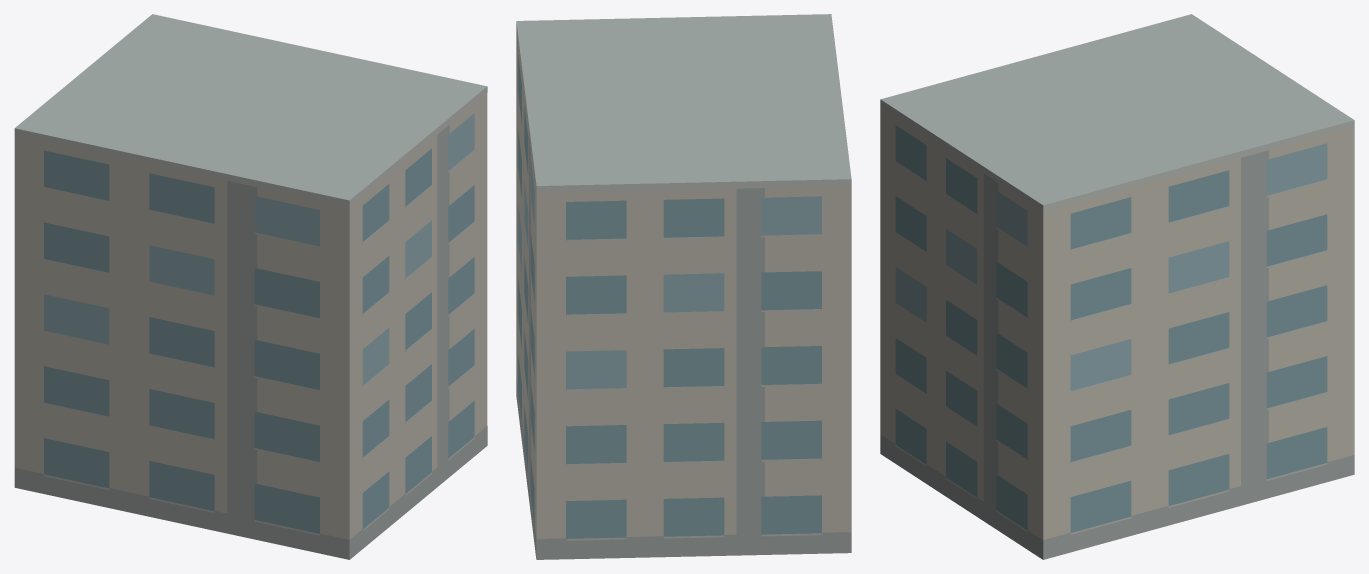
Rendered from residential-b9fc102f-3365-479f-a40b-c52389ee0dda.glb.
3 renders of one model, left to right at view 1: azimuth 30°, elevation 25°; view 2: azimuth 150°, elevation 25°; view 3: azimuth 270°, elevation 25°, orthographic. The views are drawn at different scales.
Parts seen in each view (by area): view 1: residential-b9fc102f-3365-479f-a40b-c52389ee0dda.tmp; view 2: residential-b9fc102f-3365-479f-a40b-c52389ee0dda.tmp; view 3: residential-b9fc102f-3365-479f-a40b-c52389ee0dda.tmp.
Boxes of the visible parts, left/top/right/bottom form: residential-b9fc102f-3365-479f-a40b-c52389ee0dda.tmp: left=14, top=14, right=487, bottom=559; residential-b9fc102f-3365-479f-a40b-c52389ee0dda.tmp: left=516, top=14, right=851, bottom=559; residential-b9fc102f-3365-479f-a40b-c52389ee0dda.tmp: left=880, top=14, right=1354, bottom=559.
Bounding box in the file's own units: 15.12 × 13.05 × 15.83.
